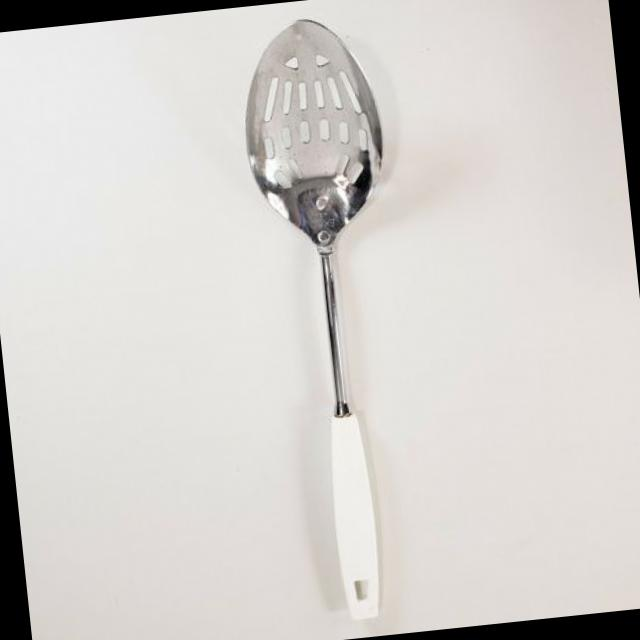spoon: (224, 2, 434, 626)
